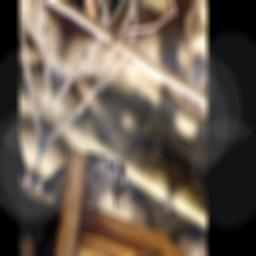Woodpecker: (25, 117, 131, 256)
